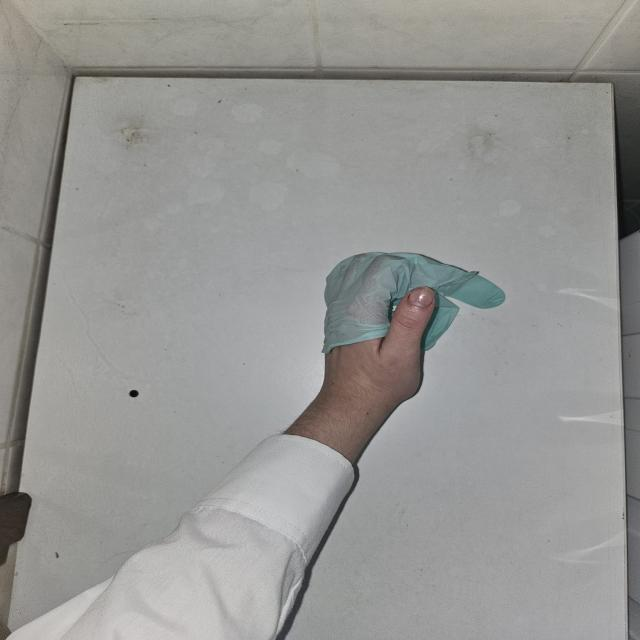glove_partial: (324, 249, 507, 402)
